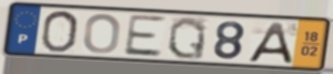8: (213, 20, 246, 60)
A: (245, 21, 295, 65)
E: (121, 13, 167, 58)
O: (39, 9, 81, 54), (82, 12, 123, 55)
Q: (166, 15, 208, 61)
